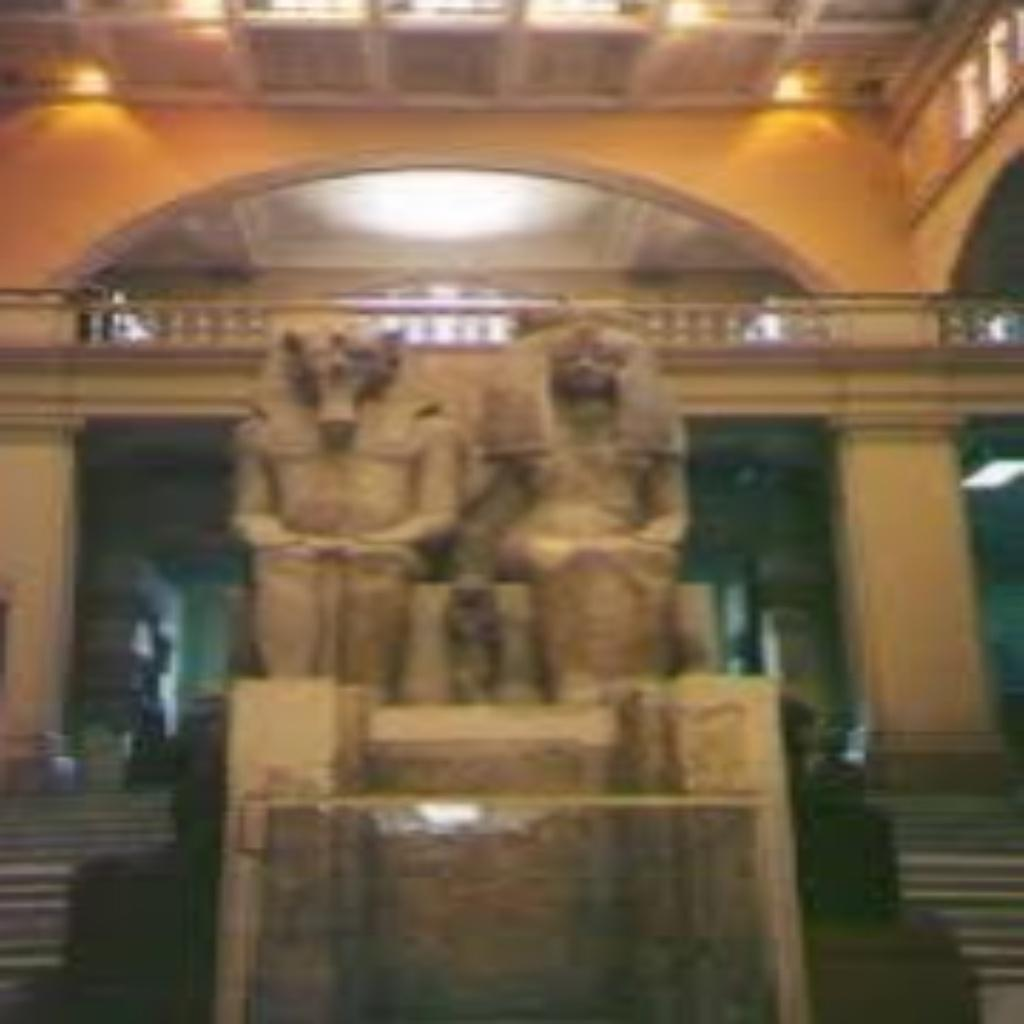Amenhotep III and Tiye: (216, 318, 706, 698)
